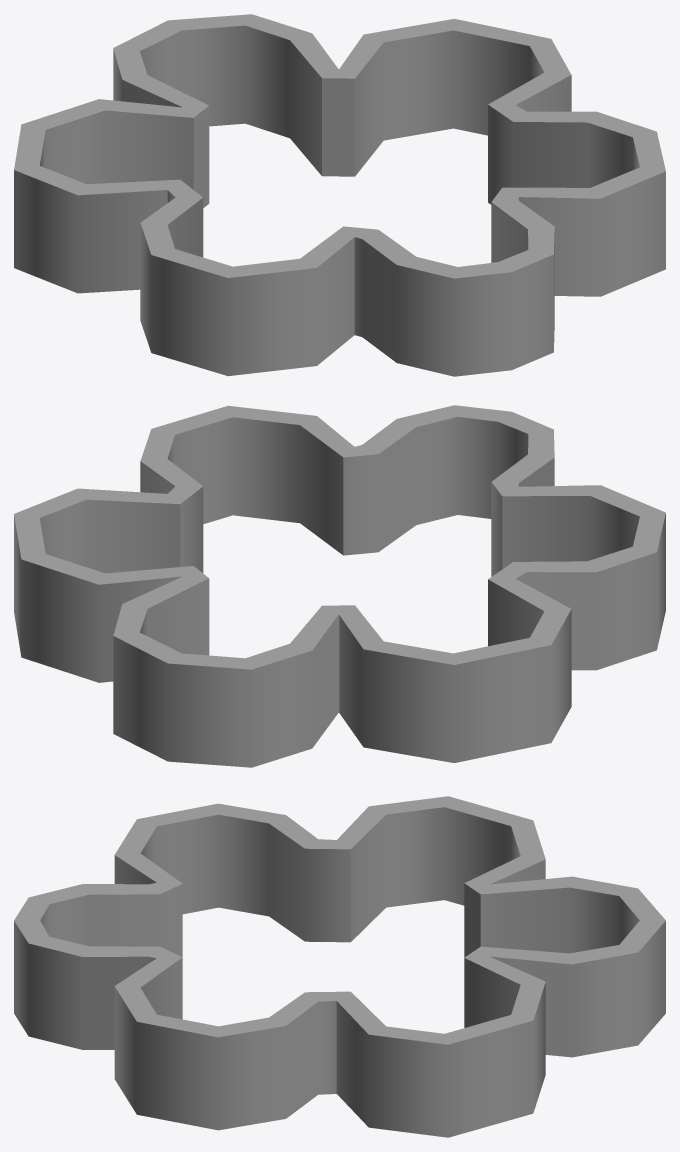
File: BiscuitCutter_Flower_01.fbx
The picture shows the model from 3 angles, top to bottom: view 1: azimuth 30°, elevation 25°; view 2: azimuth 150°, elevation 25°; view 3: azimuth 270°, elevation 25°; orthographic projection. The views are drawn at different scales.
Visible parts, largest first — view 1: BiscuitCutter_Flower_01; view 2: BiscuitCutter_Flower_01; view 3: BiscuitCutter_Flower_01.
Boxes of the visible parts, x1,y1,x2,y2 form: BiscuitCutter_Flower_01: [14, 14, 665, 376]; BiscuitCutter_Flower_01: [14, 405, 665, 767]; BiscuitCutter_Flower_01: [14, 796, 665, 1137].
Size of the model in its own units: 0.0731 by 0.0128 by 0.0811.
